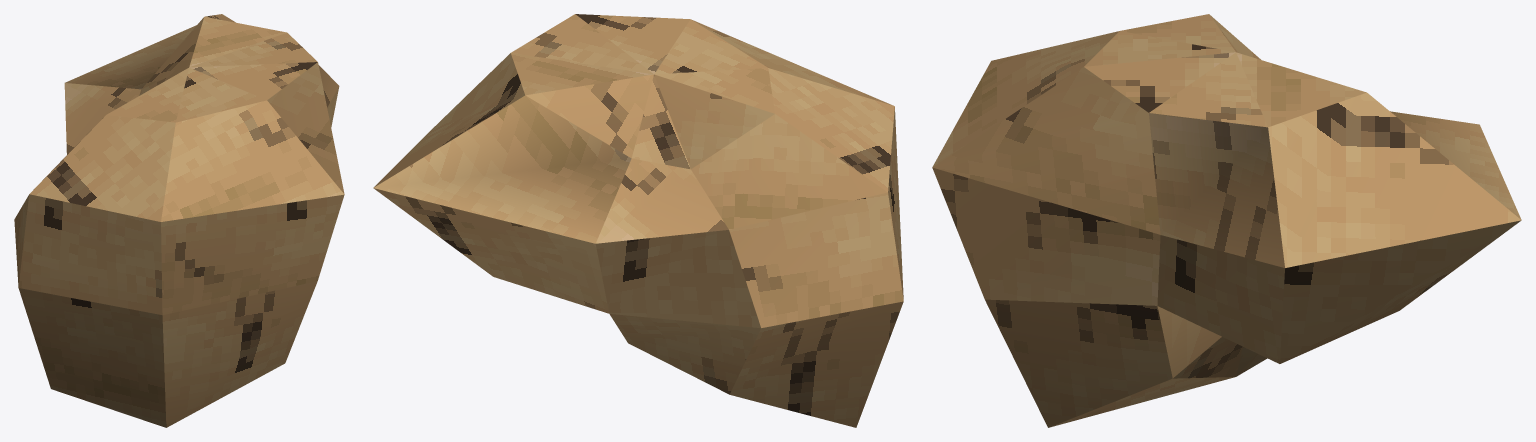
The model's file is boulder_sandstone.glb.
3 renders of one model, left to right at view 1: azimuth 30°, elevation 25°; view 2: azimuth 150°, elevation 25°; view 3: azimuth 270°, elevation 25°, orthographic. The views are drawn at different scales.
Parts seen in each view (by area): view 1: boulder_sandstone; view 2: boulder_sandstone; view 3: boulder_sandstone.
Part boxes in pixels (x1,y1,x2,y2): boulder_sandstone: (14,14,344,427); boulder_sandstone: (373,14,903,427); boulder_sandstone: (932,14,1521,427).
Bounding box in the file's own units: 1.25 × 0.9682 × 1.27.
1 material, 1 textured.
